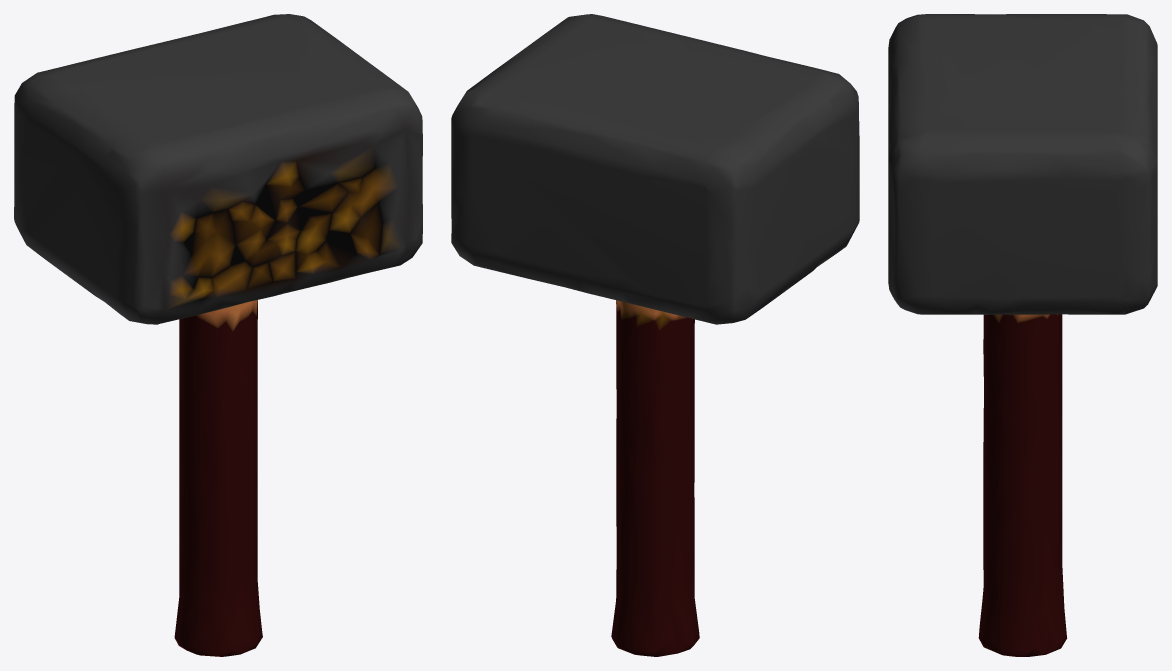
The model's file is gen3d-sledgehammer-lod0.glb.
3 views of the same model, side by side, from view 1: azimuth 30°, elevation 25°; view 2: azimuth 150°, elevation 25°; view 3: azimuth 270°, elevation 25° (orthographic).
Parts seen in each view (by area): view 1: part_0; view 2: part_0; view 3: part_0.
Part boxes in pixels (left/top/right/bottom): part_0: left=14, top=14, right=422, bottom=656; part_0: left=451, top=14, right=859, bottom=656; part_0: left=888, top=14, right=1157, bottom=656.
Size of the model in its own units: 0.5572 by 1 by 0.4332.
